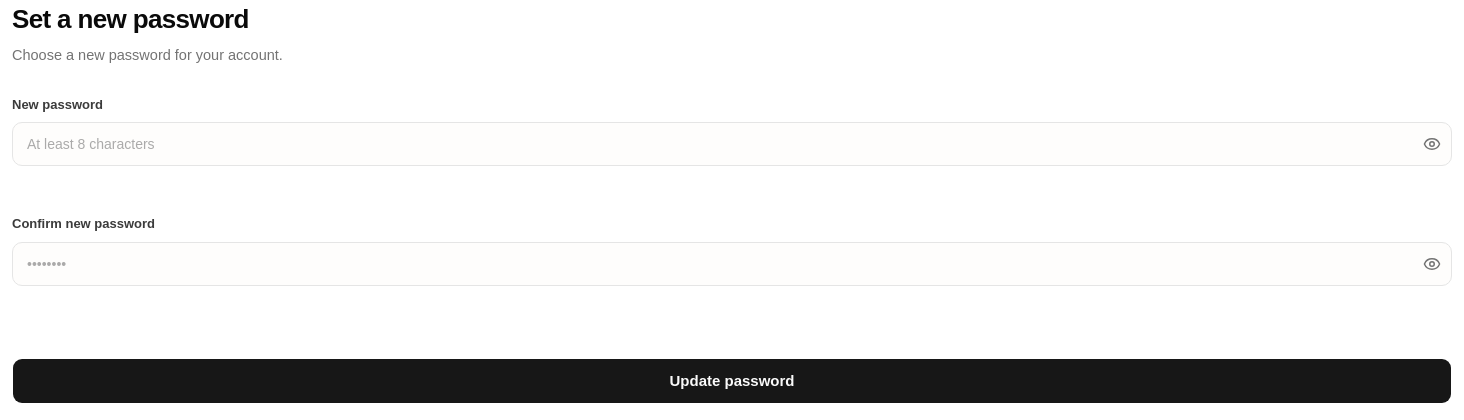
Test case: ResetPasswordForm › shows a validation error when passwords do not match
The width and height of the screenshot is (1464, 420).
In the password field labelled "New password": x=732, y=144 left=12, top=122, right=1452, bottom=166, type "NewStrongPass456"
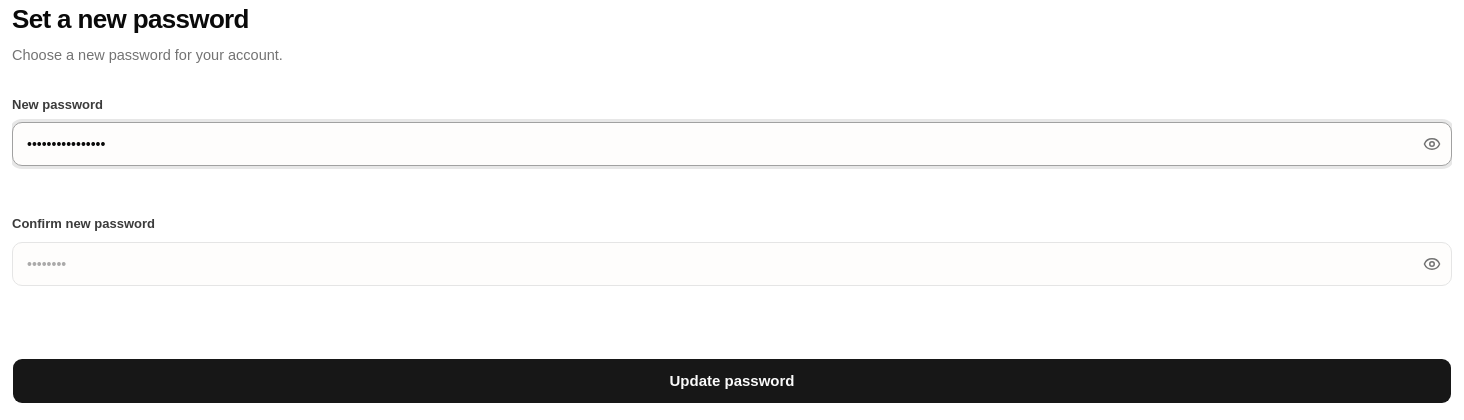
In the password field labelled "Confirm new password": x=732, y=264 left=12, top=242, right=1452, bottom=286, type "Mismatch123"
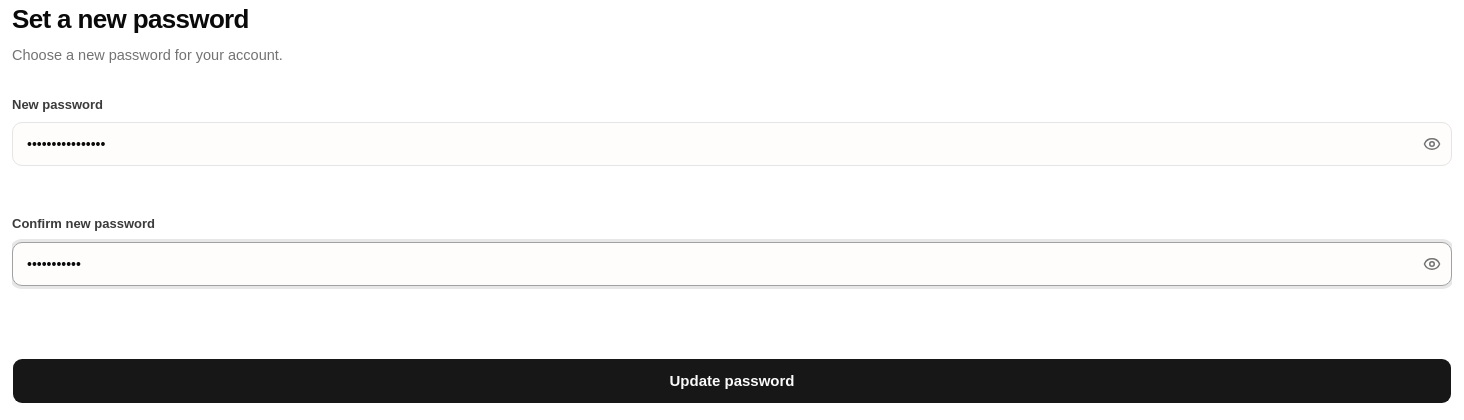
Click the button "Update password": x=732, y=381 left=12, top=358, right=1452, bottom=404
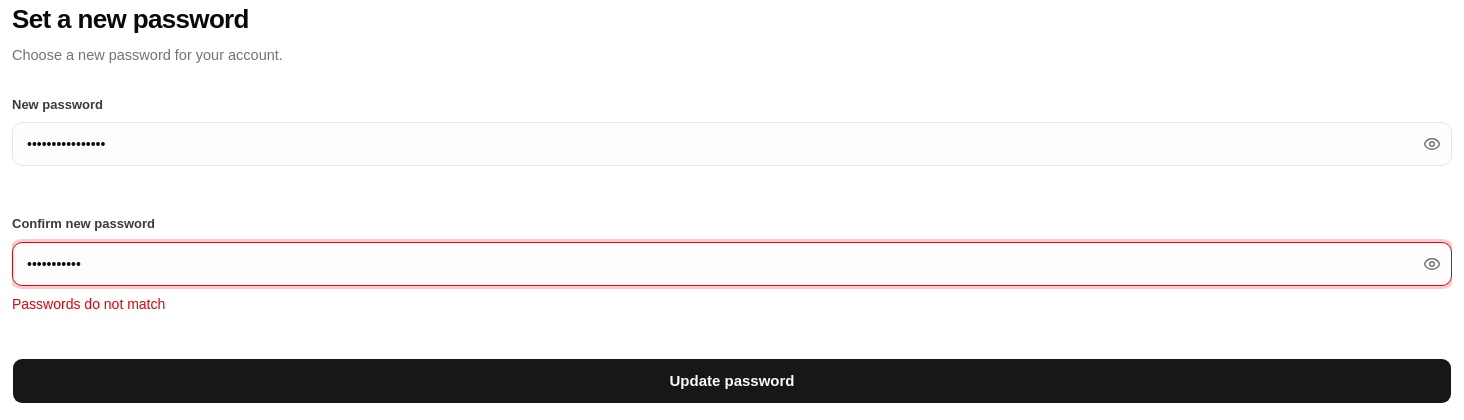
Expected: the text "Passwords do not match" is shown, left=12, top=296, right=165, bottom=312
